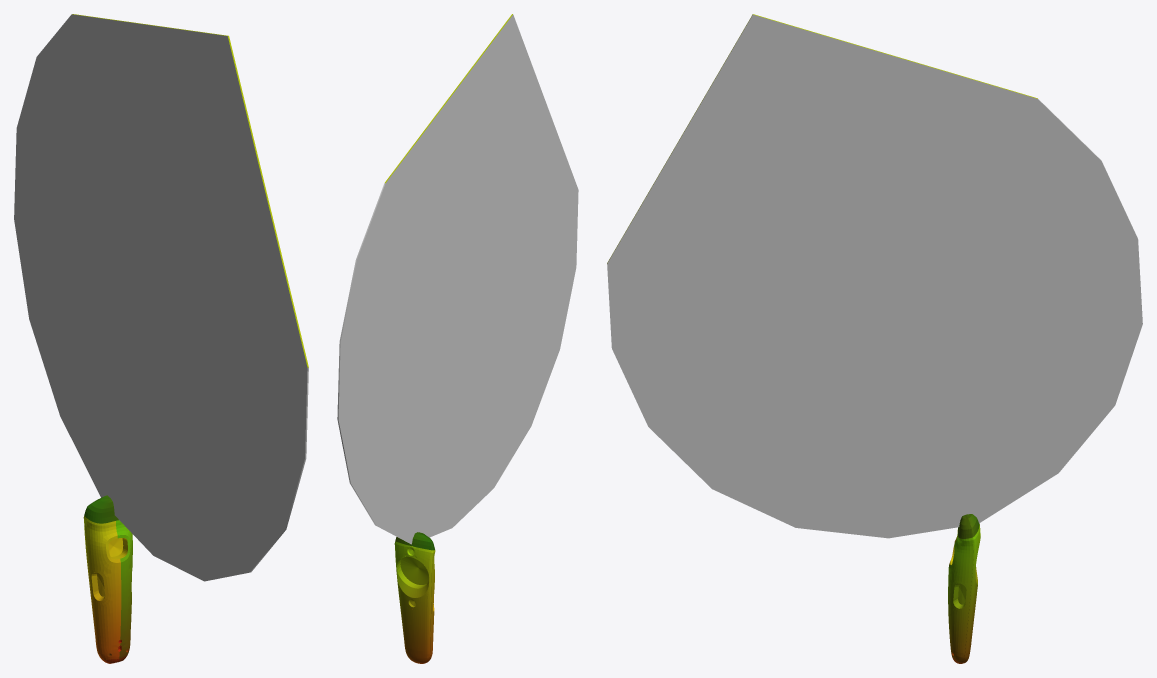
File: controller_teardrop_huge.FBX
3 views of the same model, side by side, from view 1: azimuth 30°, elevation 25°; view 2: azimuth 150°, elevation 25°; view 3: azimuth 270°, elevation 25° (orthographic). The views are drawn at different scales.
Visible parts, largest first — view 1: Selection Controller Mesh; view 2: Selection Controller Mesh; view 3: Selection Controller Mesh.
Boxes of the visible parts, x1,y1,x2,y2 form: Selection Controller Mesh: (14, 14, 308, 663); Selection Controller Mesh: (337, 14, 578, 663); Selection Controller Mesh: (607, 14, 1142, 663).
Size of the model in its own units: 5.15 by 74.24 by 55.62.
